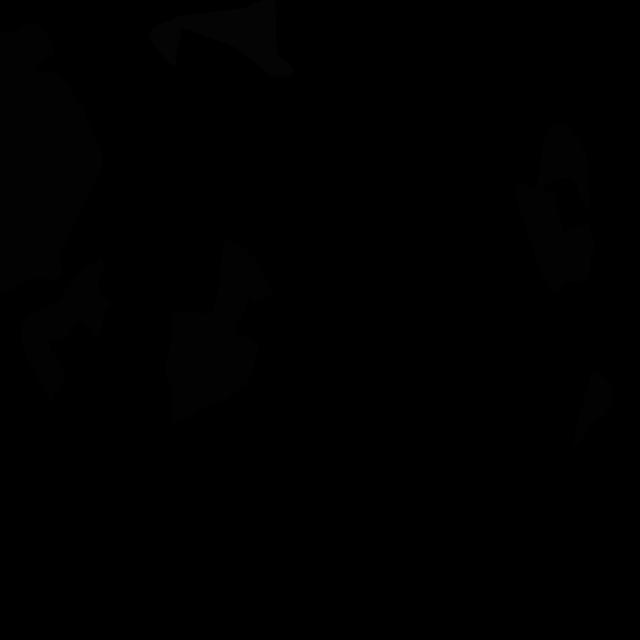cardboard: (0, 24, 103, 297), (164, 236, 273, 423), (20, 255, 110, 406), (515, 182, 596, 294), (536, 124, 590, 215), (574, 369, 614, 447)
soft_plastic: (148, 0, 293, 77)
